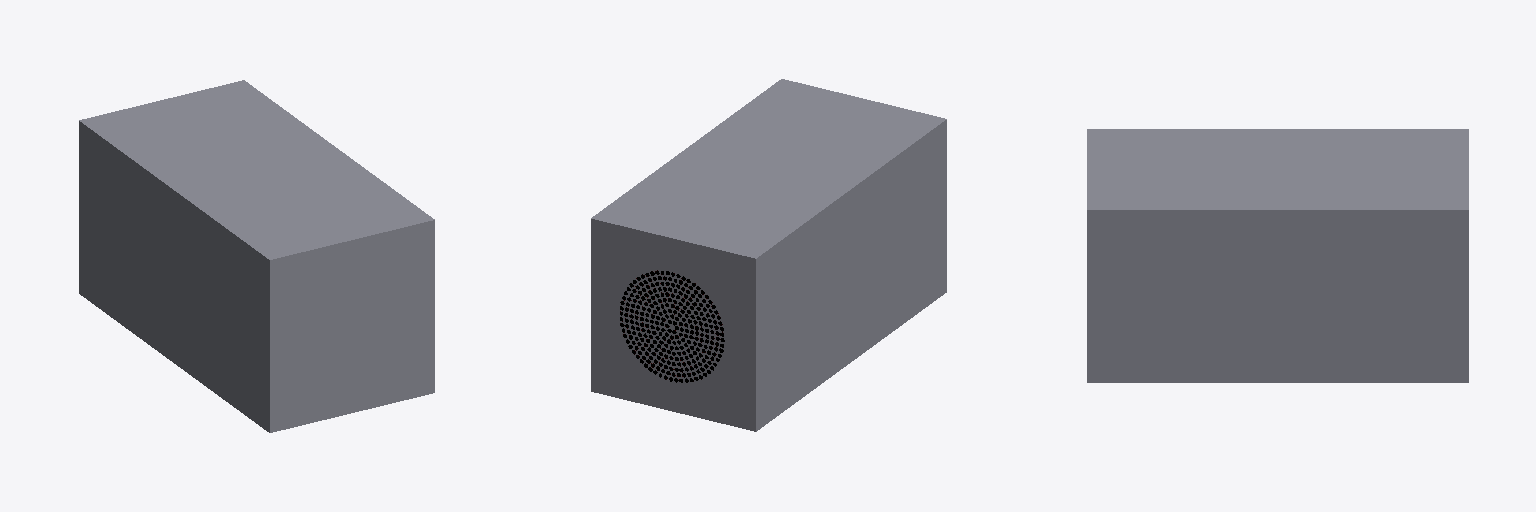
3 views of the same model, side by side, from view 1: azimuth 30°, elevation 25°; view 2: azimuth 150°, elevation 25°; view 3: azimuth 270°, elevation 25° (orthographic).
Visible parts, largest first — view 1: Remotecontrol1; view 2: Remotecontrol1, Remotecontrol2; view 3: Remotecontrol1.
Boxes of the visible parts, box(x1,y1,x2,y2) form: Remotecontrol1: box(79, 80, 434, 432); Remotecontrol1: box(591, 79, 946, 431); Remotecontrol2: box(620, 270, 724, 382); Remotecontrol1: box(1087, 129, 1468, 382).
Bounding box in the file's own units: 1 × 1 × 2.02.
Materials: 2 (1 with a texture image).